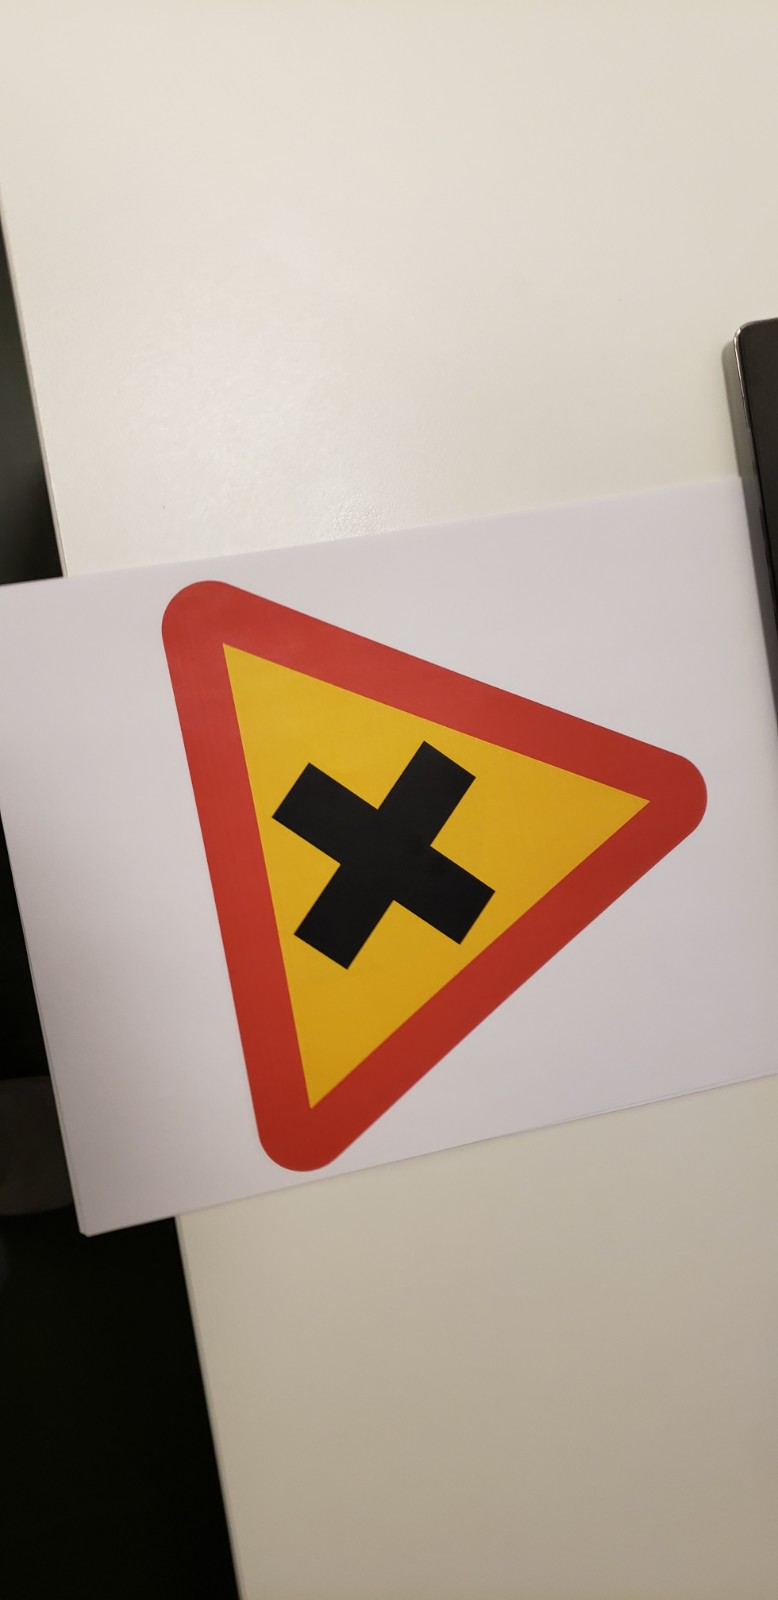junction: (135, 559, 730, 1203)
